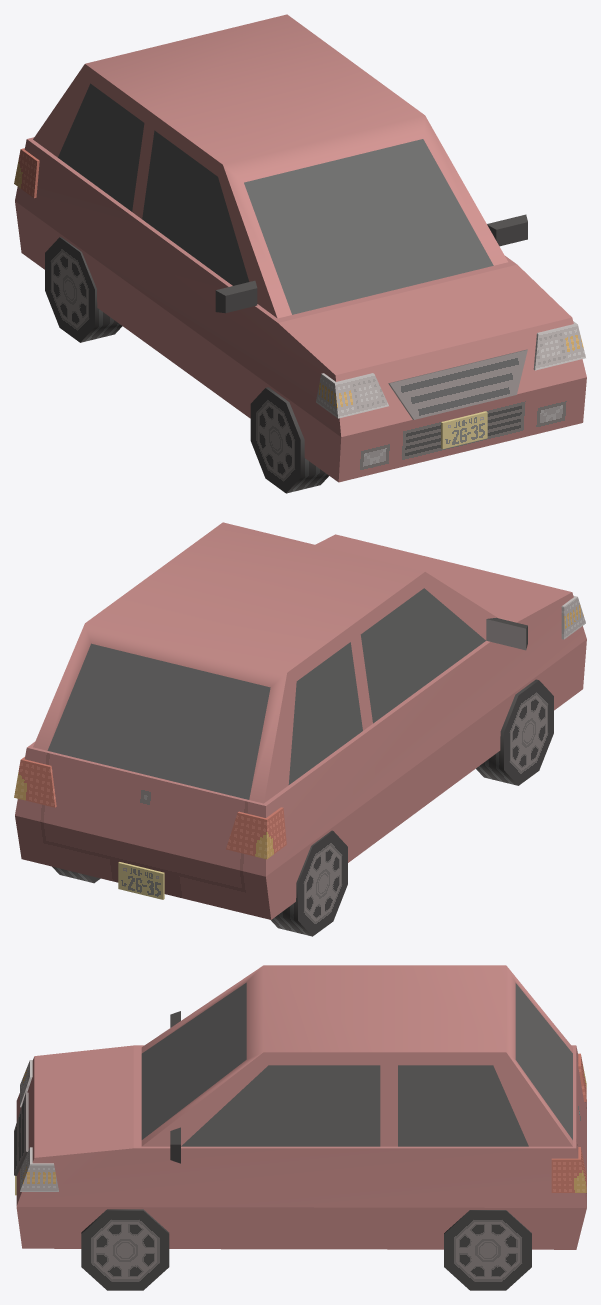
Rendered from 0094_Compact.glb.
3 renders of one model, top to bottom at view 1: azimuth 30°, elevation 25°; view 2: azimuth 150°, elevation 25°; view 3: azimuth 270°, elevation 25°, orthographic. The views are drawn at different scales.
Parts seen in each view (by area): view 1: part_0, part_1, part_2; view 2: part_0, part_2, part_1; view 3: part_0, part_1, part_2.
Boxes of the visible parts, <box> form: part_0: <box>14,14,586,482</box>; part_1: <box>250,387,328,493</box>; part_2: <box>45,237,122,342</box>; part_0: <box>14,522,586,919</box>; part_2: <box>52,830,347,936</box>; part_1: <box>476,679,553,785</box>; part_0: <box>14,965,586,1249</box>; part_1: <box>81,1209,169,1290</box>; part_2: <box>444,1210,531,1290</box>.
Bounding box in the file's own units: 1.79 × 1.42 × 3.25.
3 materials, 3 textured.
